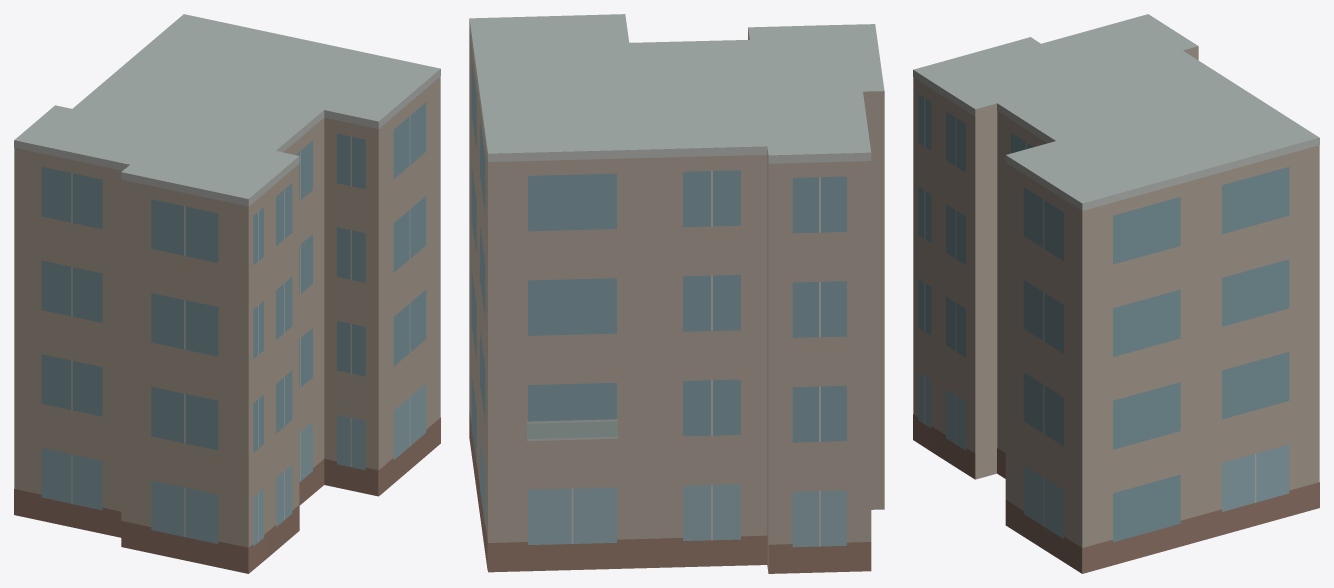
File: survey-upis-32924198.glb
The picture shows the model from 3 angles, left to right: view 1: azimuth 30°, elevation 25°; view 2: azimuth 150°, elevation 25°; view 3: azimuth 270°, elevation 25°; orthographic projection. The views are drawn at different scales.
Parts seen in each view (by area): view 1: survey-upis-32924198.tmp; view 2: survey-upis-32924198.tmp; view 3: survey-upis-32924198.tmp.
Boxes of the visible parts, x1,y1,x2,y2 form: survey-upis-32924198.tmp: [14, 14, 440, 573]; survey-upis-32924198.tmp: [469, 14, 884, 573]; survey-upis-32924198.tmp: [913, 14, 1319, 573].
Bounding box in the file's own units: 13.4 × 12.2 × 12.15.
